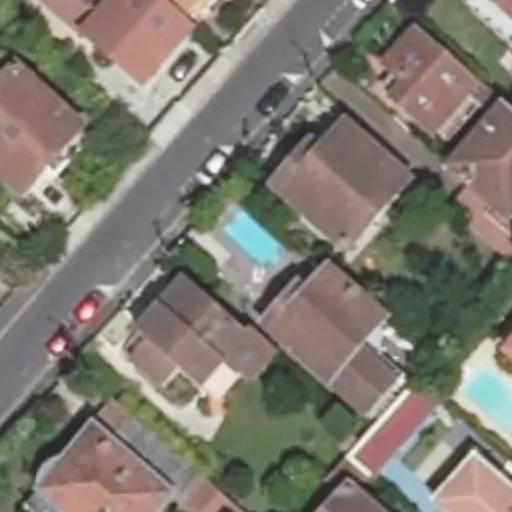pool: (223, 230, 287, 253)
